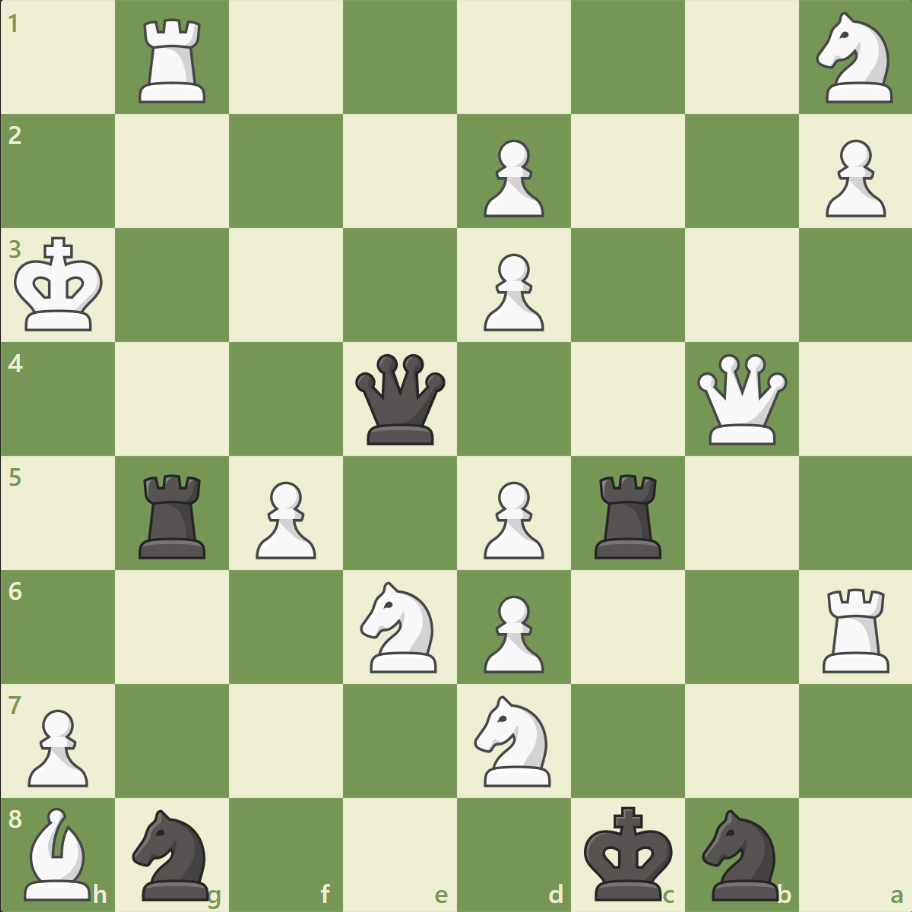B: (17, 801, 101, 904)
K: (11, 231, 111, 339)
N: (351, 575, 449, 677), (465, 688, 562, 791), (806, 7, 903, 110)
P: (20, 700, 95, 791), (474, 586, 549, 677), (474, 473, 549, 564), (247, 473, 322, 564), (474, 246, 549, 337), (474, 132, 549, 223), (815, 132, 889, 223)
Q: (691, 349, 790, 449)
R: (814, 579, 897, 676), (133, 12, 215, 109)
k: (579, 798, 679, 906)
n: (124, 802, 222, 904), (692, 802, 789, 904)
q: (351, 349, 450, 449)
r: (587, 466, 670, 563), (133, 466, 215, 563)
